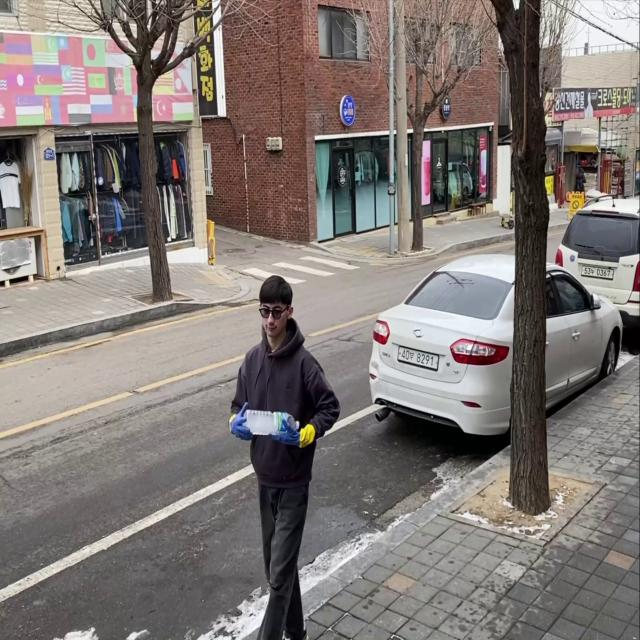gloved_hand: (230, 401, 255, 446), (269, 414, 299, 449)
